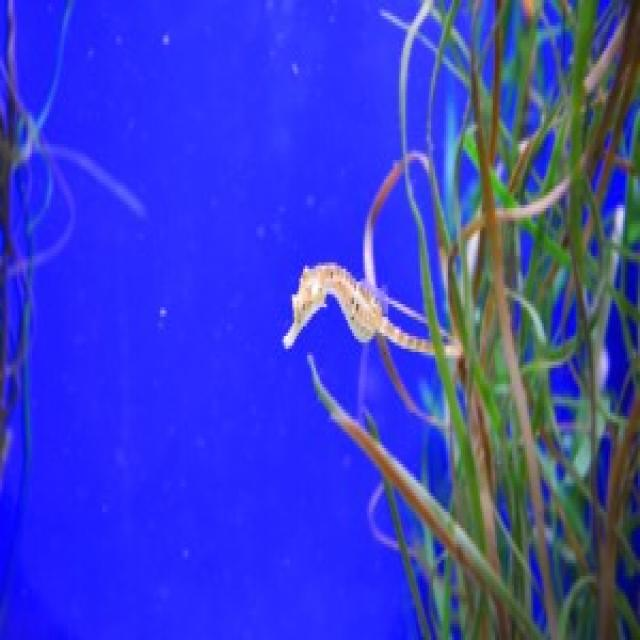Seahorse: (272, 251, 434, 384)
